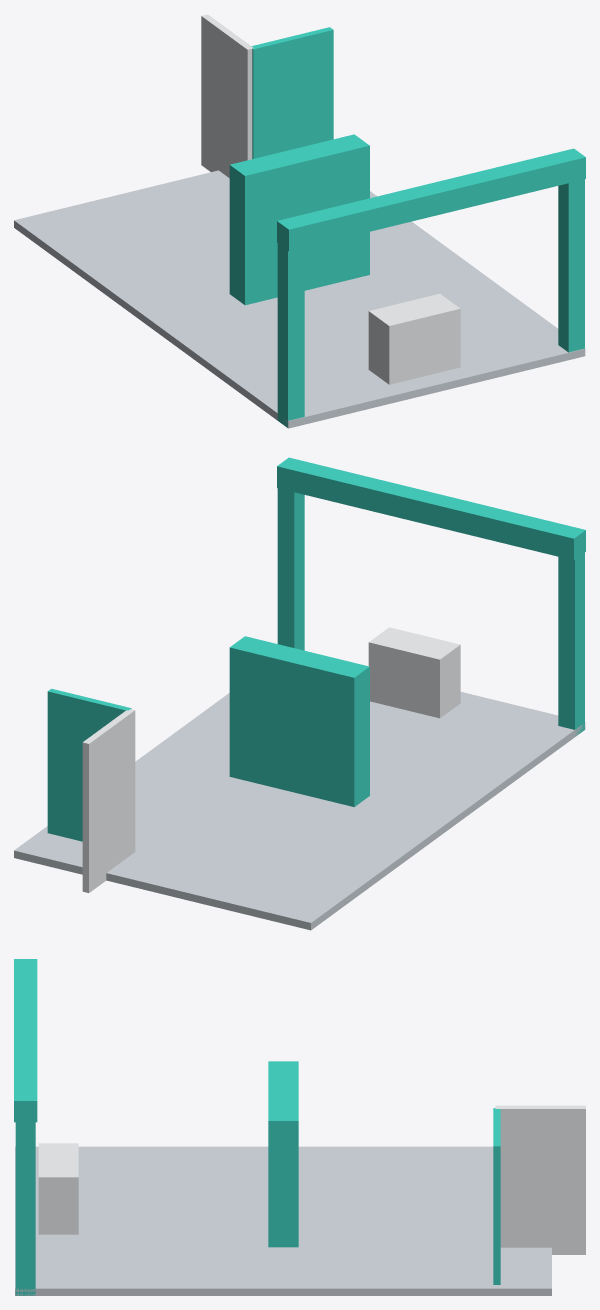
3 views of the same model, one above another, from view 1: azimuth 30°, elevation 25°; view 2: azimuth 150°, elevation 25°; view 3: azimuth 270°, elevation 25° (orthographic). The views are drawn at different scales.
Visible parts, largest first — view 1: Exhibition Booth Concept; view 2: Exhibition Booth Concept; view 3: Exhibition Booth Concept.
Part boxes in pixels (bbox=[...]): Exhibition Booth Concept: bbox=[14, 14, 585, 428]; Exhibition Booth Concept: bbox=[14, 457, 585, 930]; Exhibition Booth Concept: bbox=[14, 959, 585, 1295].
Bounding box in the file's own units: 5 × 3.2 × 8.52.
